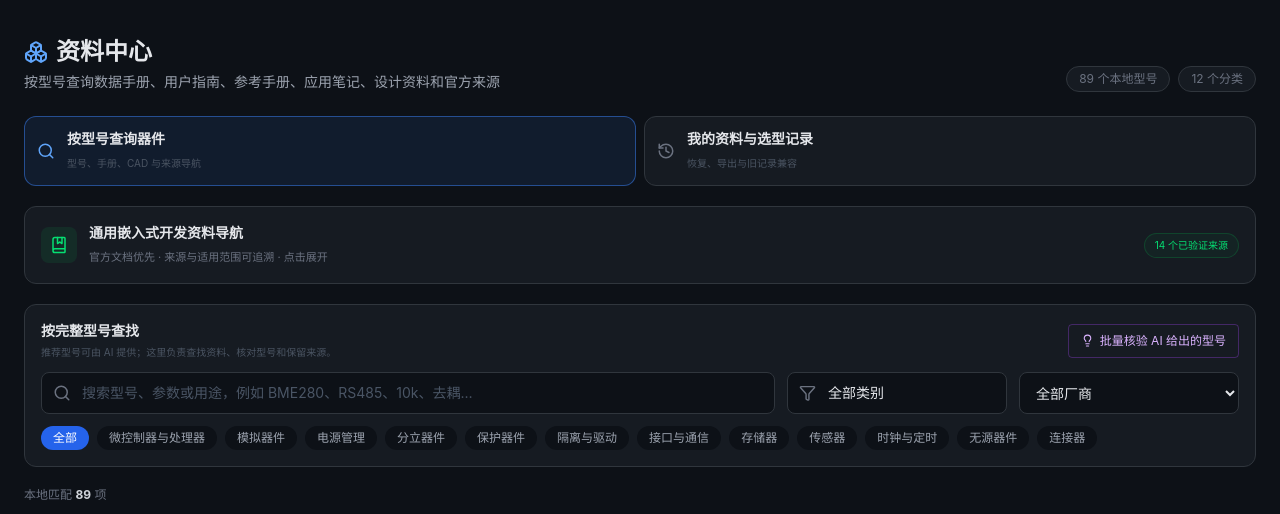
ChipLibPage layout › shows only verified official documents and keeps unresolved kinds non-clickable
The image size is (1280, 514).
Step 1. Type "BME280" into the field with placeholder "搜索型号、参数或用途，例如 BME280、RS485、10k、去耦…" → (408, 393), box [41,372,775,414]
(page scrolled)
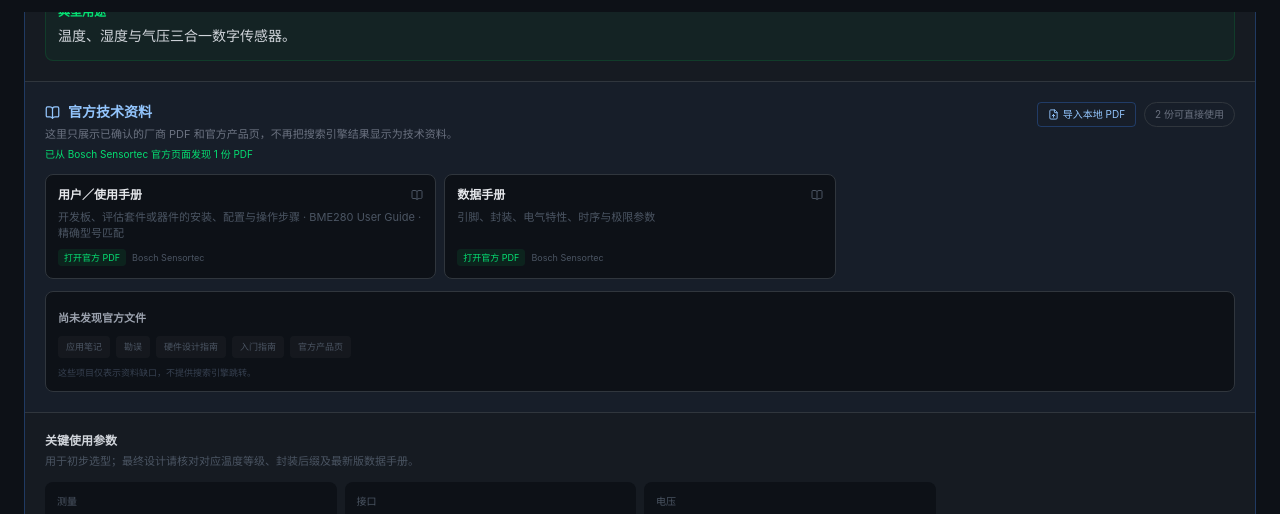
Check: the heading "官方技术资料" is shown, box [45,103,152,120]
Check: the button "数据手册 引脚、封装、电气特性、时序与极限参数 打开官方 PDF Bosch Sensortec" is shown, box [444,174,836,279]
Check: the text "已从 Bosch Sensortec 官方页面发现 1 份 PDF" is shown, box [45,148,253,160]
